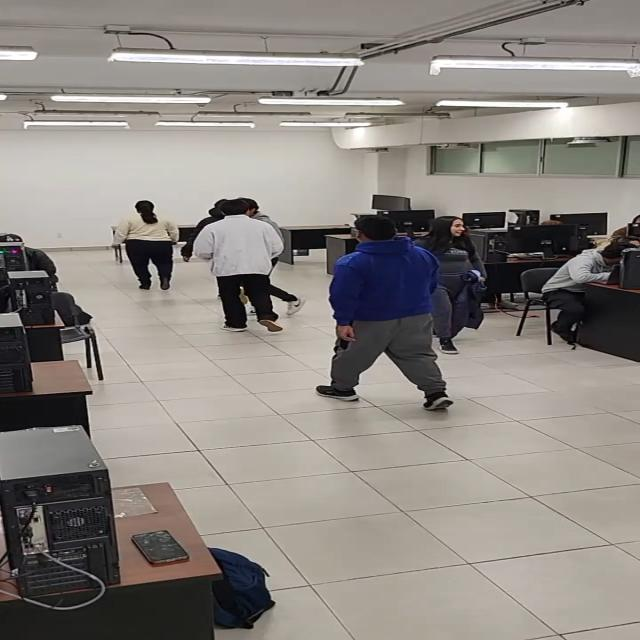Persona: (332, 214, 453, 409), (206, 203, 286, 330), (426, 212, 494, 347), (126, 199, 176, 293)
